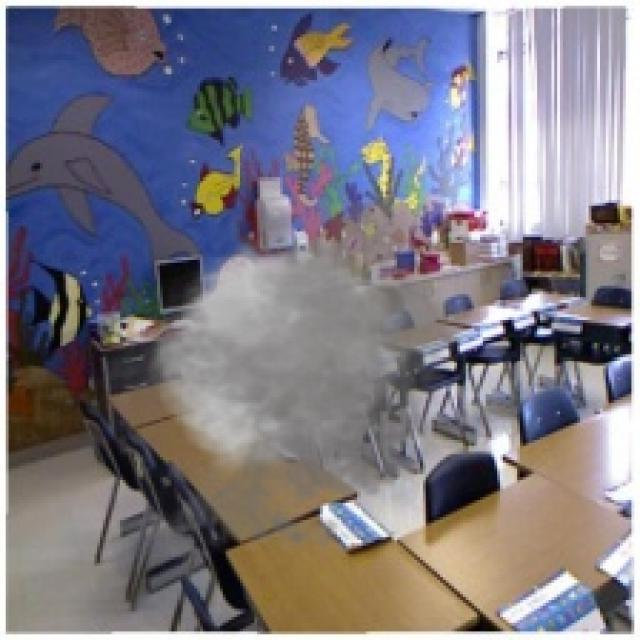smoke: (80, 183, 486, 574)
